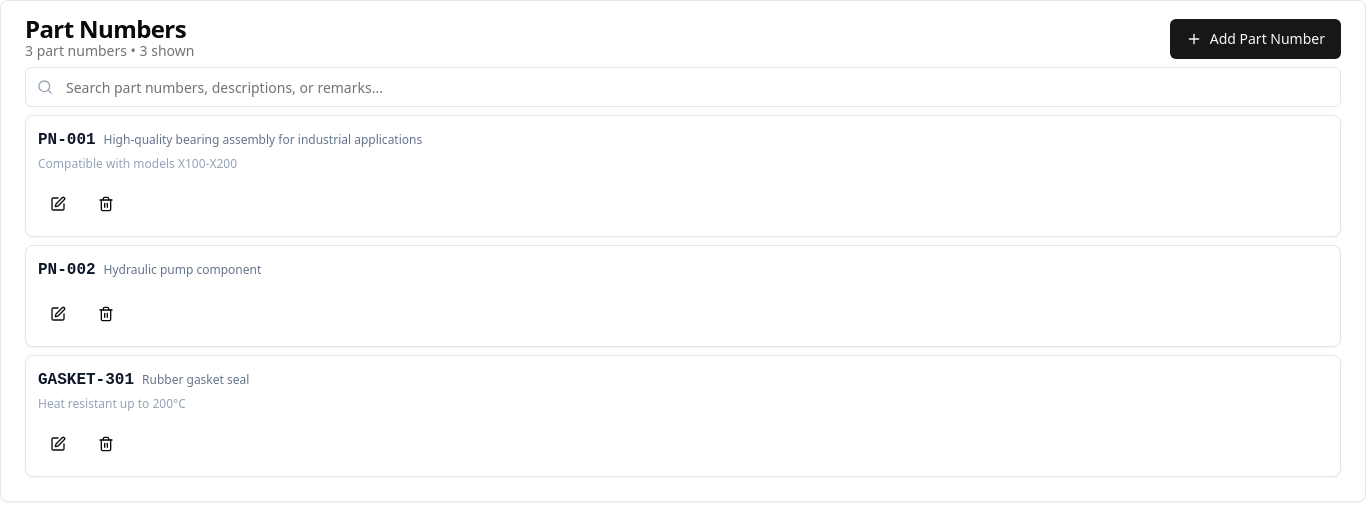
PartNumbersList › filters part numbers by description
Step 1. Type "bearing" into the field with placeholder "Search part numbers, descriptions, or remarks..." → (683, 87), box left=25, top=67, right=1341, bottom=107
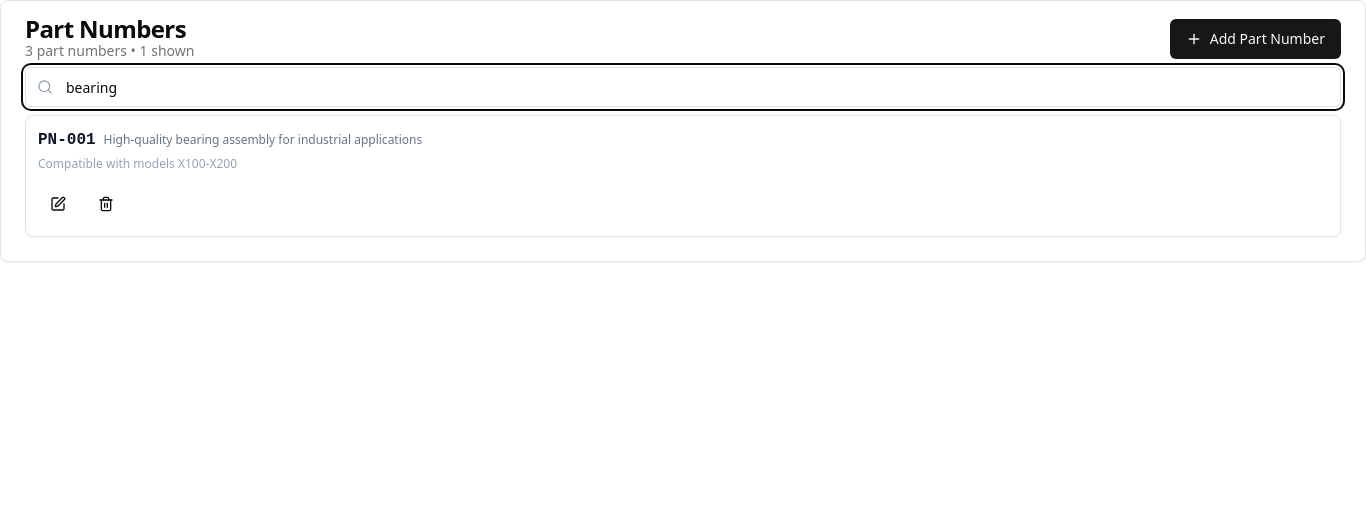
Expected: the text "PN-001" is shown, left=38, top=128, right=96, bottom=152
Result: the text "PN-002" is gone
Result: the text "GASKET-301" is gone
